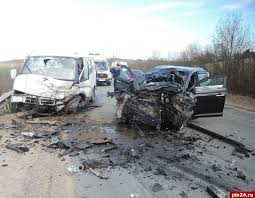car: (106, 52, 231, 137), (14, 46, 101, 118)
